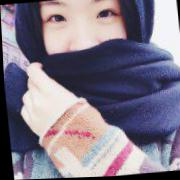WRONG: (39, 1, 137, 97)
